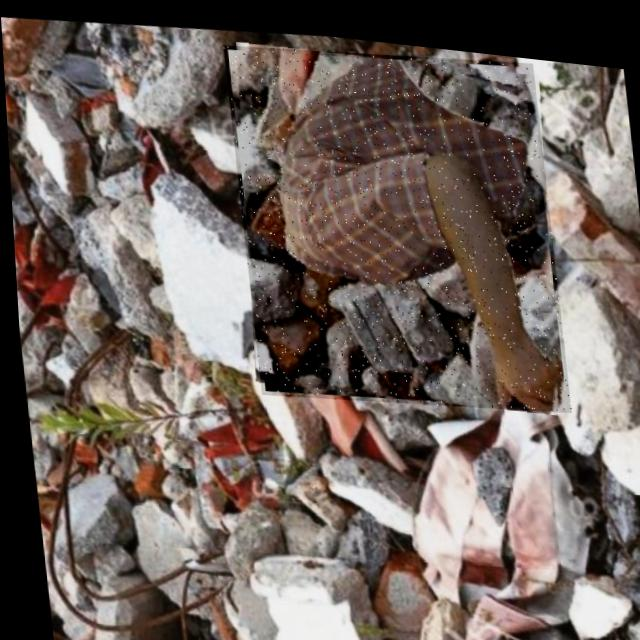Person in Rubble: (222, 23, 568, 416)
